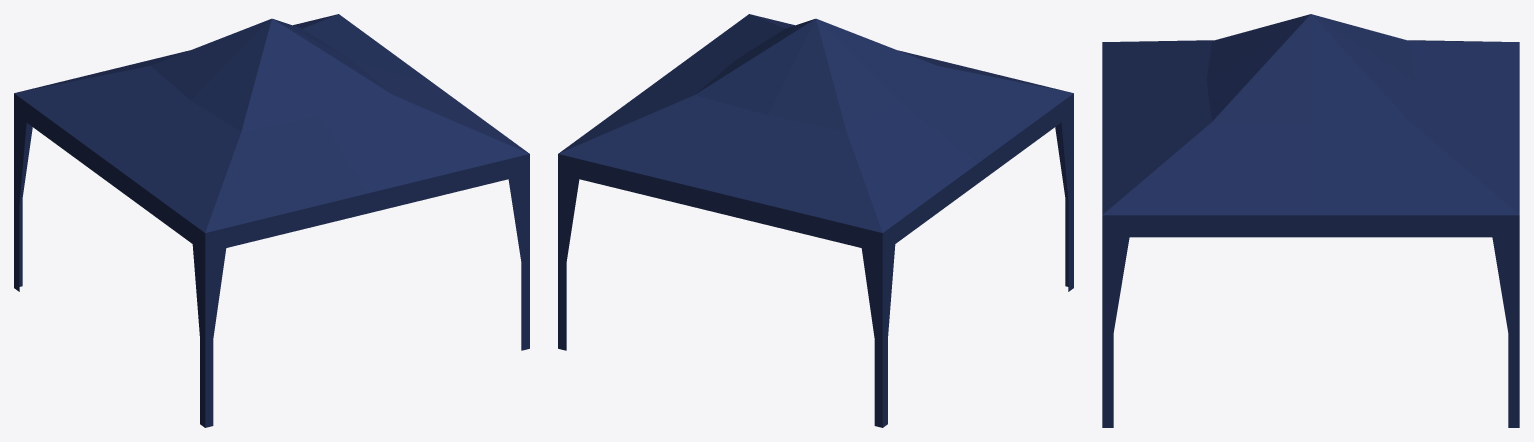
The model's file is LP_Tent.fbx.
3 renders of one model, left to right at view 1: azimuth 30°, elevation 25°; view 2: azimuth 150°, elevation 25°; view 3: azimuth 270°, elevation 25°, orthographic. The views are drawn at different scales.
Parts seen in each view (by area): view 1: LP_Tent; view 2: LP_Tent; view 3: LP_Tent.
Boxes of the visible parts, bbox=[...] form: LP_Tent: bbox=[14, 14, 529, 427]; LP_Tent: bbox=[558, 14, 1073, 427]; LP_Tent: bbox=[1102, 14, 1519, 427].
Size of the model in its own units: 5.31 by 4.68 by 5.41.
